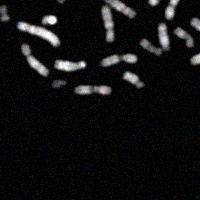chromosome: (67, 0, 134, 19), (17, 22, 61, 47), (21, 44, 48, 77), (101, 6, 115, 44), (101, 53, 137, 67), (166, 0, 188, 19), (73, 85, 110, 96), (55, 59, 84, 73), (123, 70, 144, 89), (139, 38, 162, 55), (174, 27, 192, 48), (158, 24, 170, 49), (191, 43, 200, 66), (0, 3, 9, 24), (189, 19, 200, 36), (41, 14, 57, 25), (145, 0, 160, 7), (56, 0, 72, 4)
